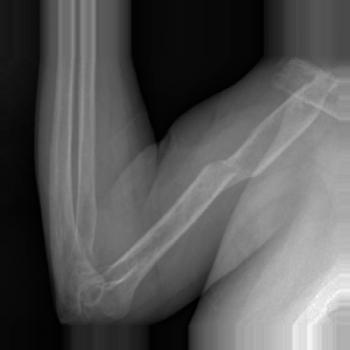Fracture: (213, 146, 255, 196)
